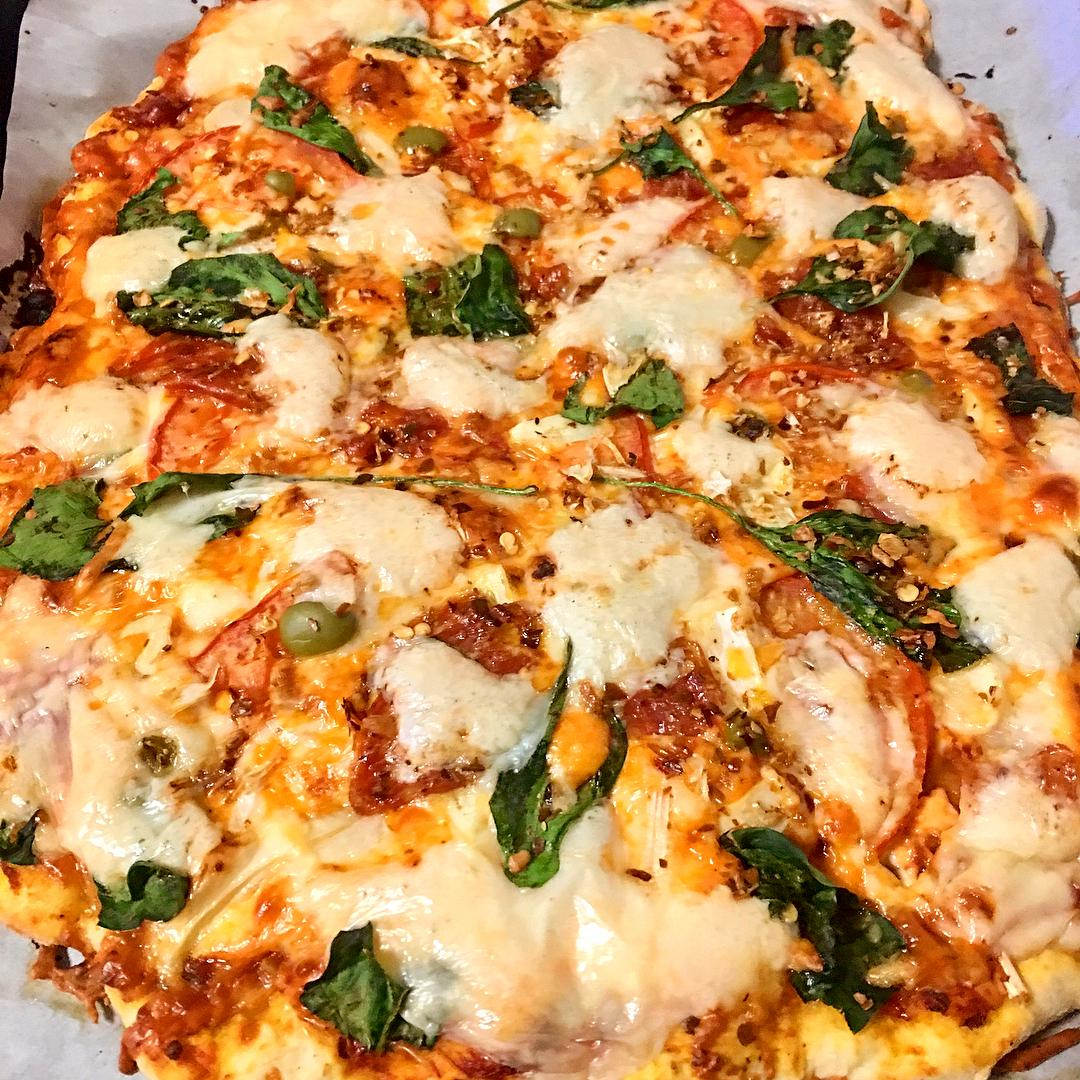Basil: (743, 506, 987, 664), (728, 823, 913, 1020), (486, 690, 621, 856), (125, 260, 331, 339), (810, 218, 969, 317), (313, 920, 413, 1040), (711, 40, 869, 111), (401, 258, 535, 341), (253, 83, 369, 177), (10, 483, 105, 582), (100, 856, 203, 938), (140, 473, 253, 544), (563, 356, 687, 417), (838, 113, 913, 201), (115, 178, 195, 239), (625, 138, 707, 189)
Cheese: (3, 591, 222, 857), (393, 857, 734, 1024), (561, 211, 758, 361), (953, 779, 1080, 957), (561, 501, 698, 664), (793, 0, 948, 138), (189, 1, 433, 87), (381, 645, 520, 770), (297, 489, 457, 594), (953, 541, 1076, 669), (549, 17, 682, 113), (391, 335, 545, 417), (5, 381, 146, 465), (837, 393, 964, 485), (337, 173, 476, 256), (921, 173, 1029, 274), (251, 321, 345, 436), (761, 179, 861, 260), (1029, 421, 1080, 500)
Olives: (273, 603, 349, 658), (393, 122, 455, 183), (718, 223, 775, 273), (493, 198, 543, 237)
Pizza: (0, 3, 1080, 1080)
